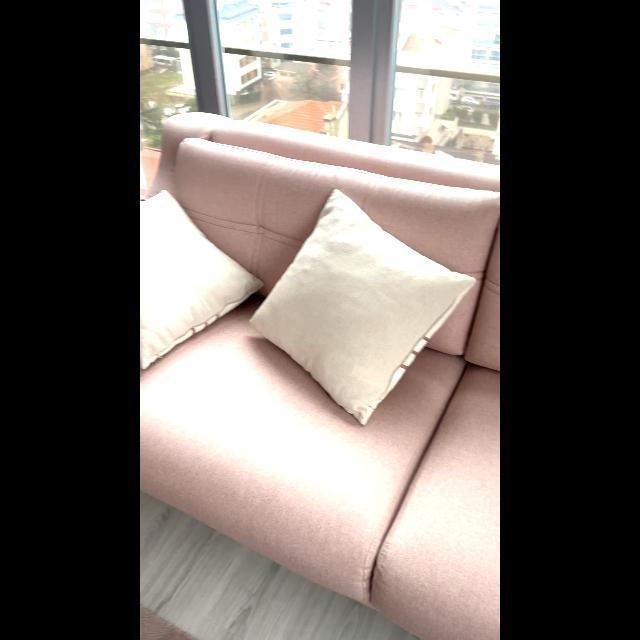throw pillow: (244, 176, 480, 432), (140, 184, 262, 378)
